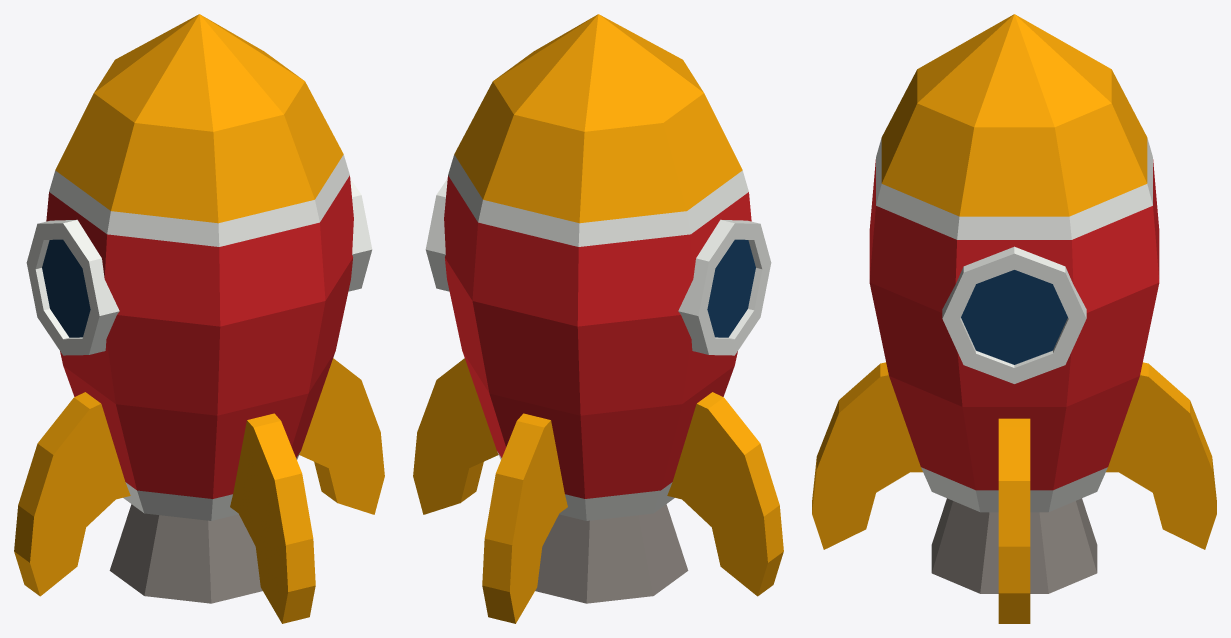
File: rocket.FBX
3 views of the same model, side by side, from view 1: azimuth 30°, elevation 25°; view 2: azimuth 150°, elevation 25°; view 3: azimuth 270°, elevation 25° (orthographic).
Visible parts, largest first — view 1: rocket; view 2: rocket; view 3: rocket.
Part boxes in pixels (x1=…): rocket: x1=14, y1=14, x2=384, y2=623; rocket: x1=413, y1=14, x2=783, y2=623; rocket: x1=812, y1=14, x2=1216, y2=623.
Bounding box in the file's own units: 21.16 × 31.91 × 21.16.
